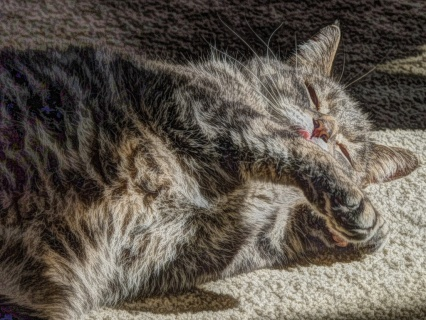Cat: (0, 16, 418, 318)
